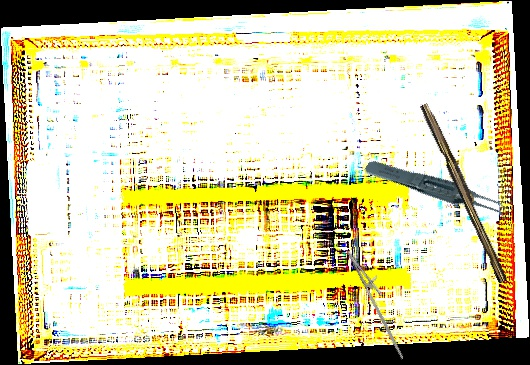Needle Holder: (334, 245, 424, 360)
Scalpel Handle: (417, 101, 513, 284)
Tissue Forceps: (362, 132, 514, 251)
